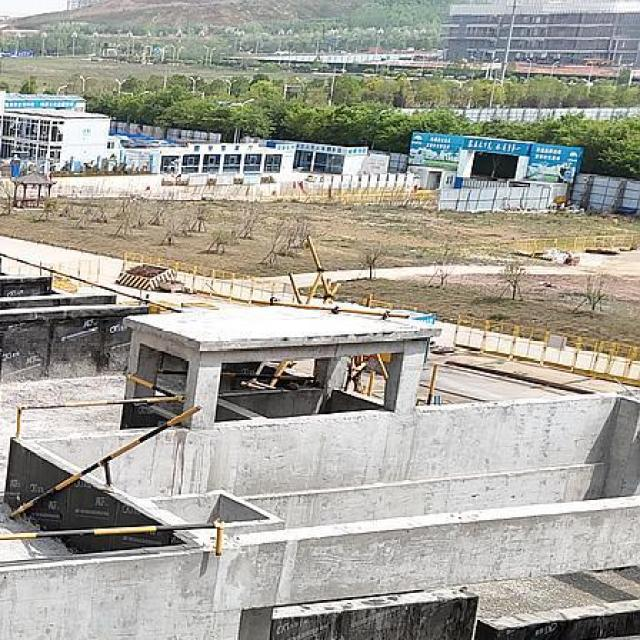edge_guardrail: (8, 406, 206, 518), (1, 252, 180, 314), (16, 374, 188, 435), (1, 522, 223, 557)
